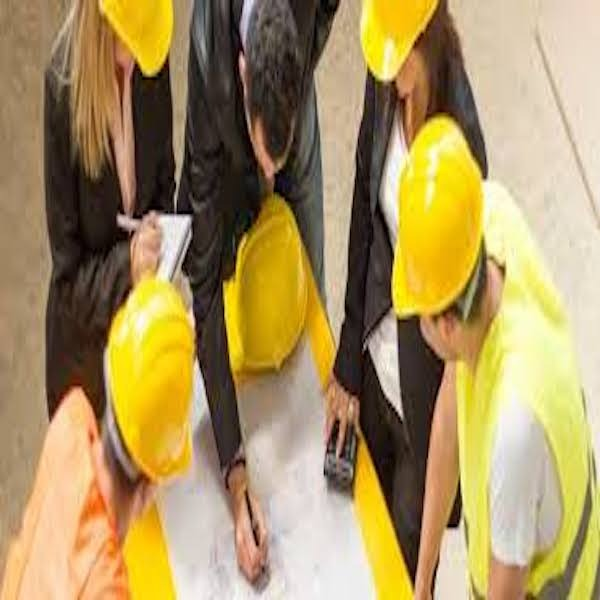helmet: (386, 111, 485, 315), (106, 275, 198, 474), (223, 190, 308, 361), (357, 4, 439, 79), (90, 6, 179, 70)
vest: (471, 199, 584, 591)
